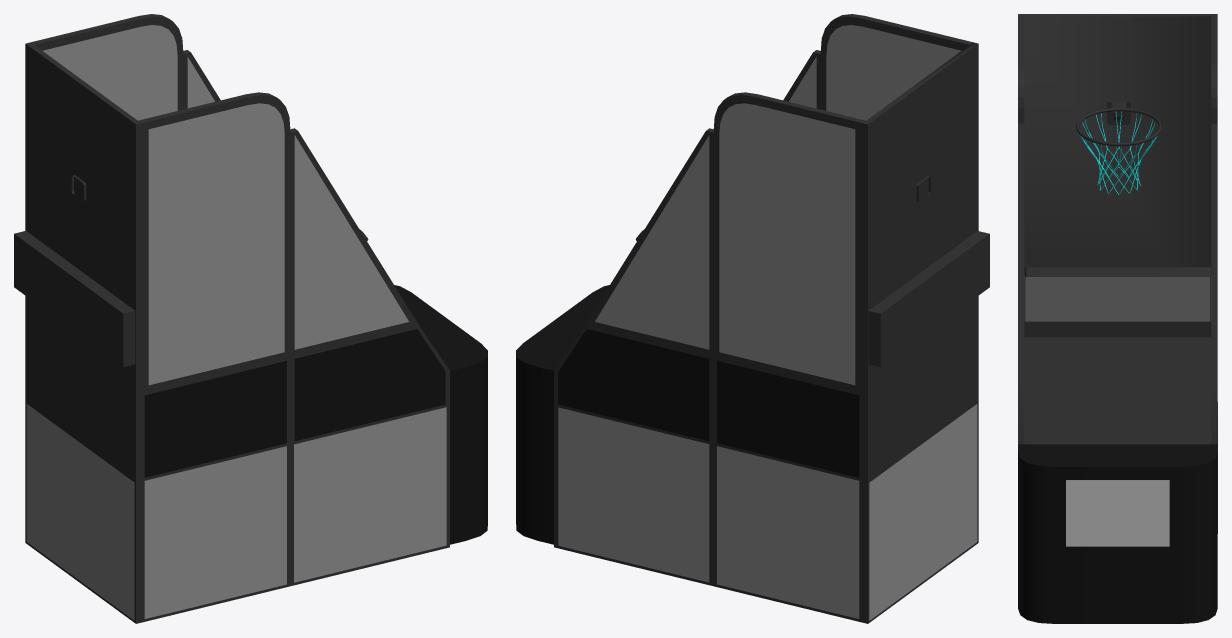
File: maquina_basket.FBX
The picture shows the model from 3 angles, left to right: view 1: azimuth 30°, elevation 25°; view 2: azimuth 150°, elevation 25°; view 3: azimuth 270°, elevation 25°; orthographic projection. The views are drawn at different scales.
Visible parts, largest first — view 1: basket; view 2: basket; view 3: basket.
Boxes of the visible parts, x1,y1,x2,y2 form: basket: (14, 14, 487, 623); basket: (516, 14, 989, 623); basket: (1018, 14, 1217, 623).
Size of the model in its own units: 231 by 291 by 117.
